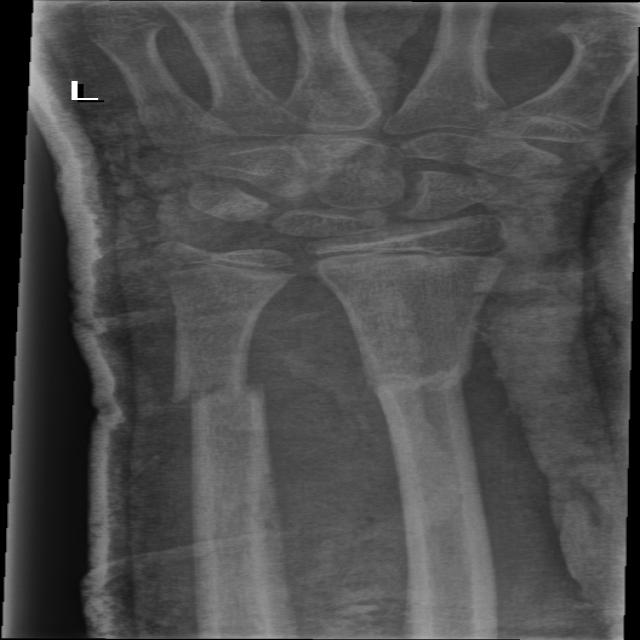radius fracture: (316, 330, 526, 442)
ulna fracture: (143, 333, 313, 446)
